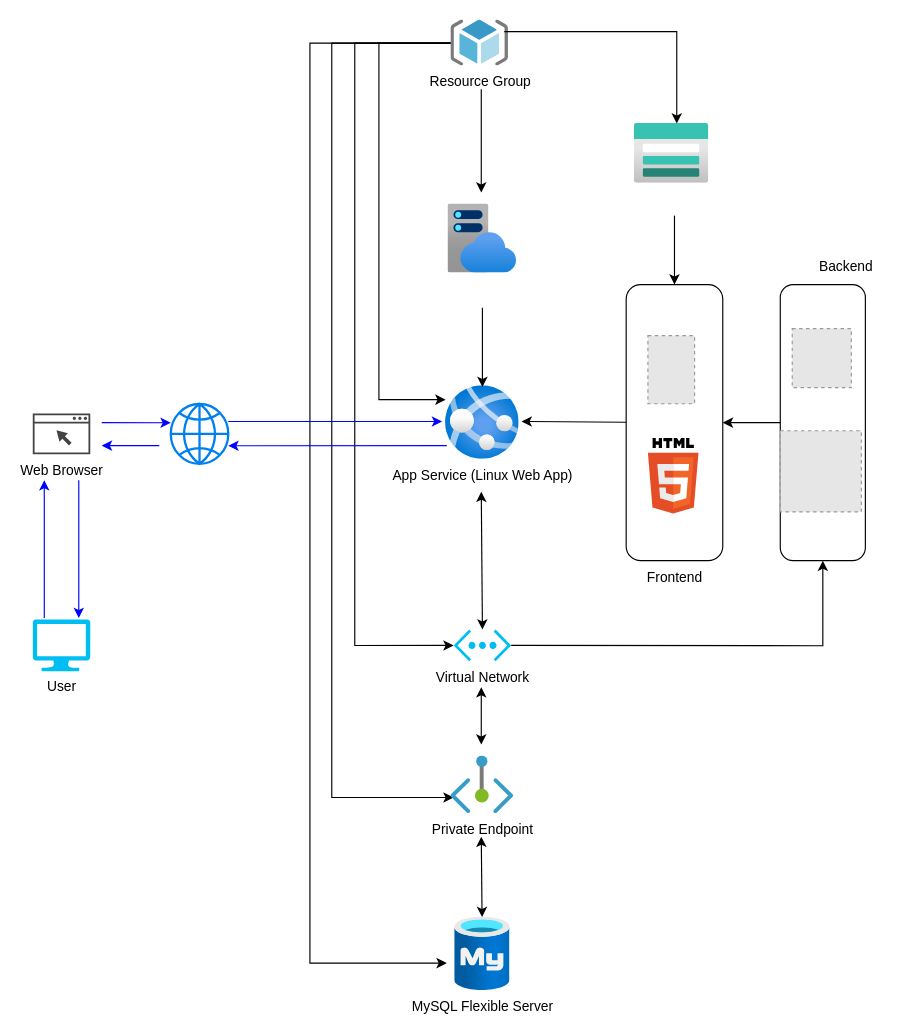
Image size: 905x1034. Some labels were removed from this diagram. Grey dashed boxes stand in for pictures. Each missing label, with the centre of its shape:
App Service Plan: (481,238)
Internet: (199,433)
Storage Account: (671,153)
